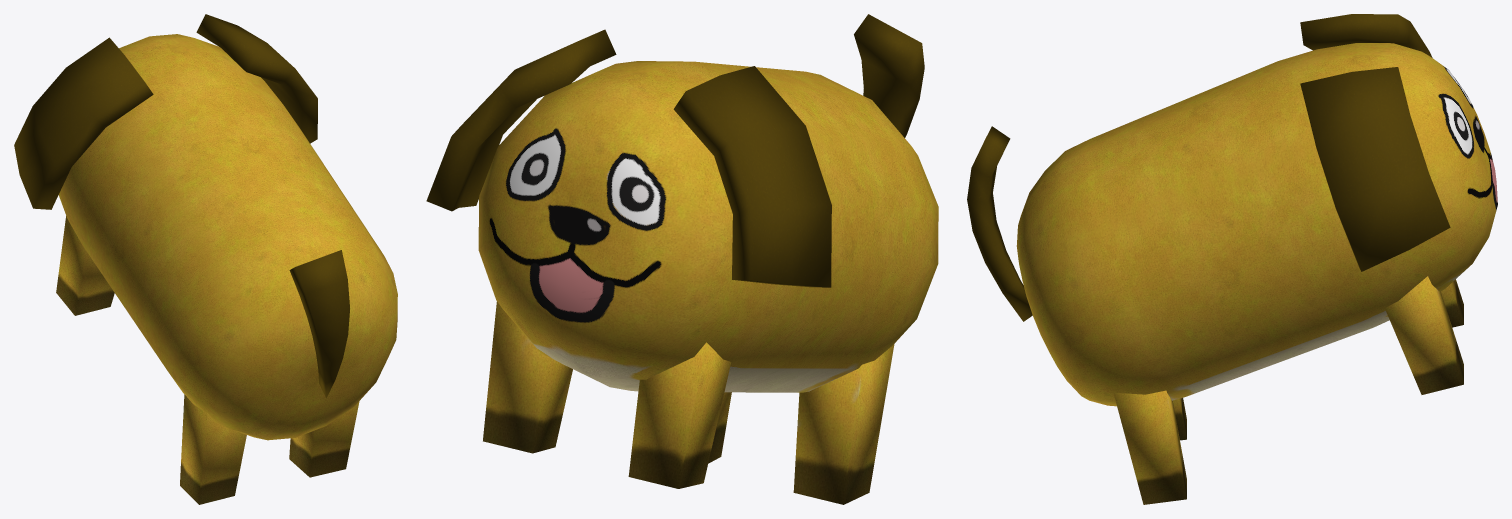
File: jump2.FBX
3 views of the same model, side by side, from view 1: azimuth 30°, elevation 25°; view 2: azimuth 150°, elevation 25°; view 3: azimuth 270°, elevation 25° (orthographic). The views are drawn at different scales.
Visible parts, largest first — view 1: jump2; view 2: jump2; view 3: jump2.
Boxes of the visible parts, box(x1,y1,x2,y2) form: jump2: box(14, 14, 397, 504); jump2: box(426, 14, 938, 504); jump2: box(967, 14, 1497, 504).
Size of the model in its own units: 31.62 by 40.18 by 45.65.
Materials: 1 (1 with a texture image).
